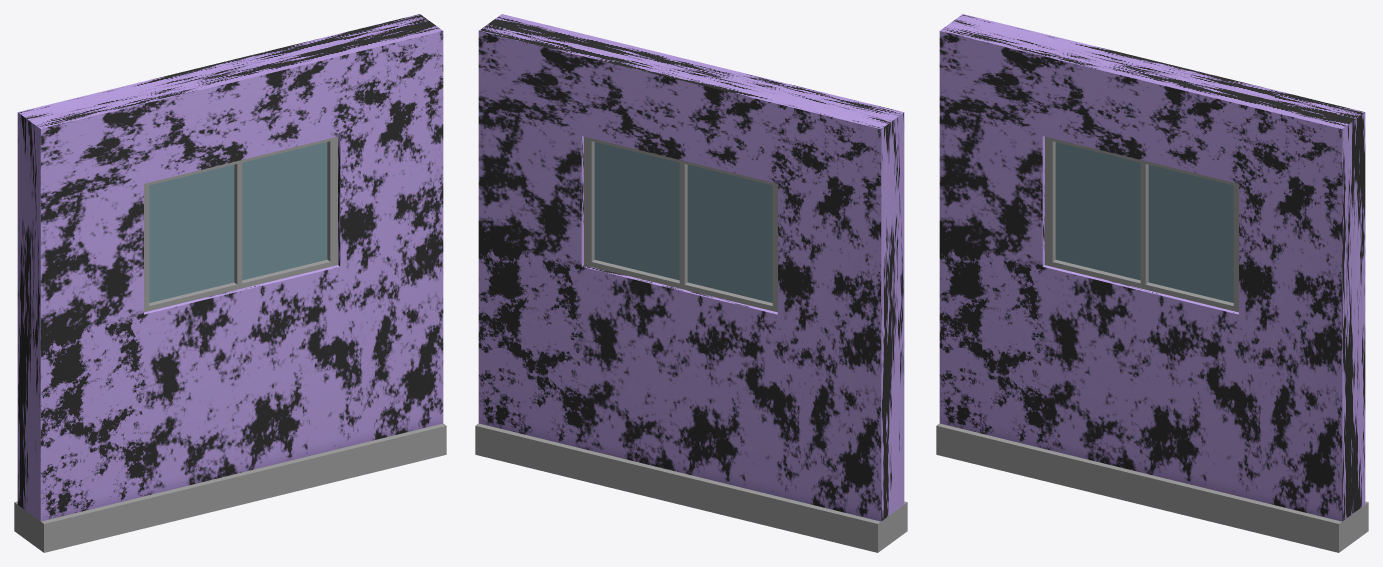
The model's file is Ventana3.fbx.
The picture shows the model from 3 angles, left to right: view 1: azimuth 30°, elevation 25°; view 2: azimuth 150°, elevation 25°; view 3: azimuth 330°, elevation 25°; orthographic projection.
Parts seen in each view (by area): view 1: Ventana; view 2: Ventana; view 3: Ventana.
Part boxes in pixels (x1,y1,x2,y2): Ventana: [14, 14, 446, 552]; Ventana: [475, 14, 907, 552]; Ventana: [936, 14, 1368, 552].
Size of the model in its own units: 200 by 200 by 25.64.
